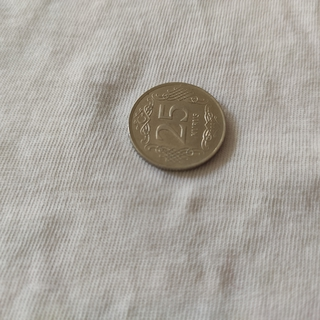25KURUS: (126, 81, 227, 172)
